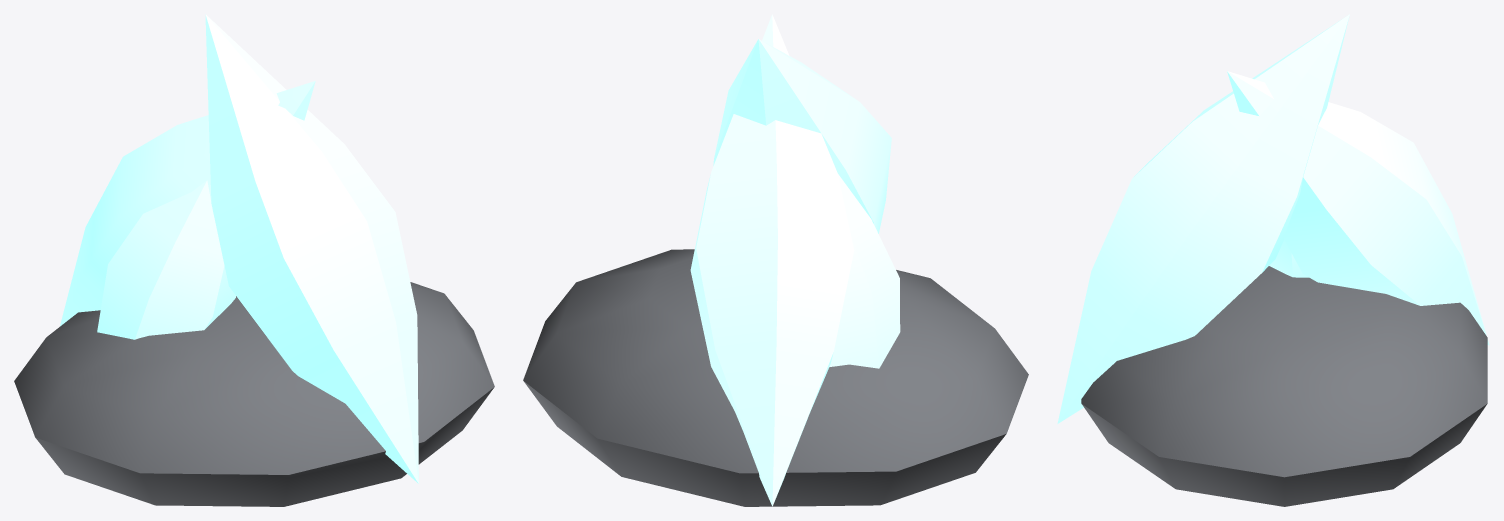
Rendered from aether_shard.glb.
3 renders of one model, left to right at view 1: azimuth 30°, elevation 25°; view 2: azimuth 150°, elevation 25°; view 3: azimuth 270°, elevation 25°, orthographic. The views are drawn at different scales.
Parts seen in each view (by area): view 1: aether_shard; view 2: aether_shard; view 3: aether_shard.
Boxes of the visible parts, <box> form: aether_shard: <box>14,14,494,506</box>; aether_shard: <box>523,14,1028,506</box>; aether_shard: <box>1057,14,1489,506</box>.
Bounding box in the file's own units: 0.091 × 0.0869 × 0.0779.
